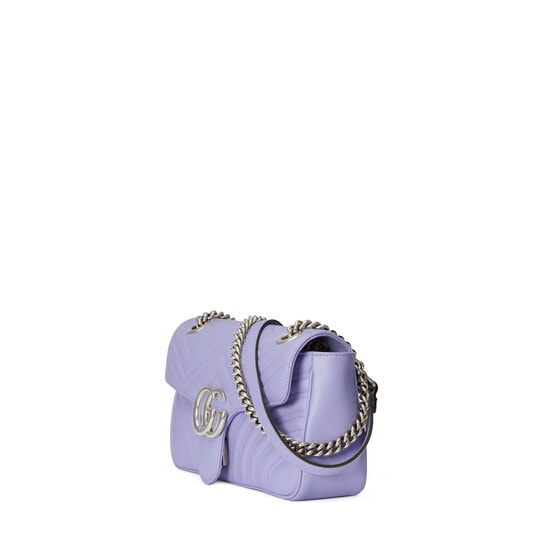Gucci: (165, 311, 376, 495), (184, 379, 241, 434)
